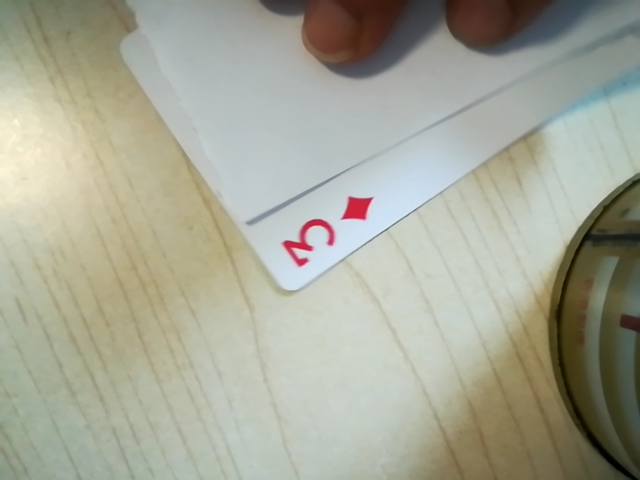fk 3: (272, 190, 375, 273)
